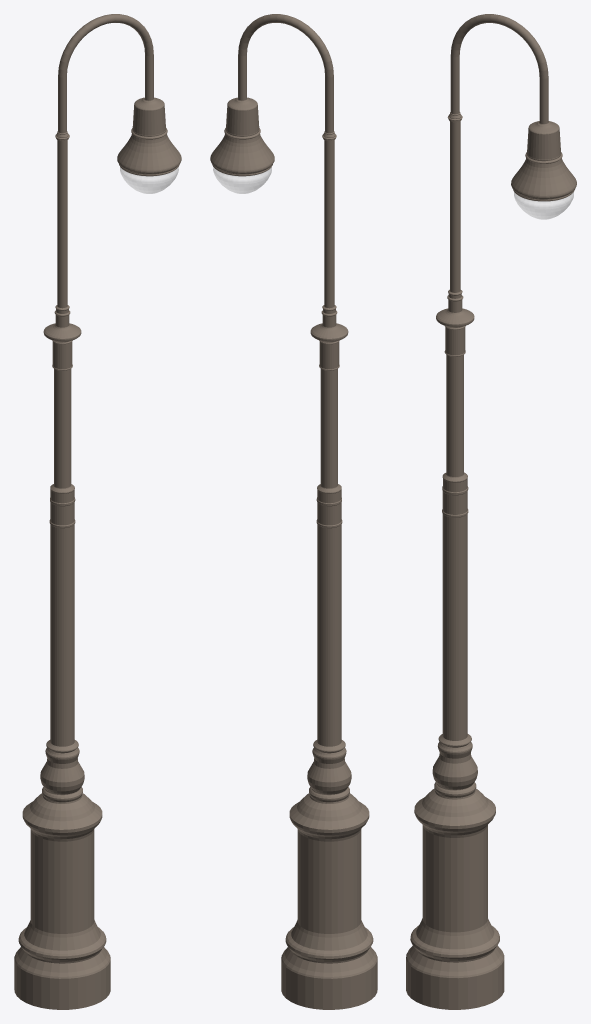
The model's file is streetLight.fbx.
3 renders of one model, left to right at view 1: azimuth 30°, elevation 25°; view 2: azimuth 150°, elevation 25°; view 3: azimuth 330°, elevation 25°, orthographic. The views are drawn at different scales.
Visible parts, largest first — view 1: polySurface4; view 2: polySurface4; view 3: polySurface4.
Boxes of the visible parts, x1,y1,x2,y2 form: polySurface4: [14, 14, 181, 1009]; polySurface4: [210, 14, 377, 1009]; polySurface4: [406, 14, 576, 1009].
Bounding box in the file's own units: 1.82 × 10.7 × 0.9722.
